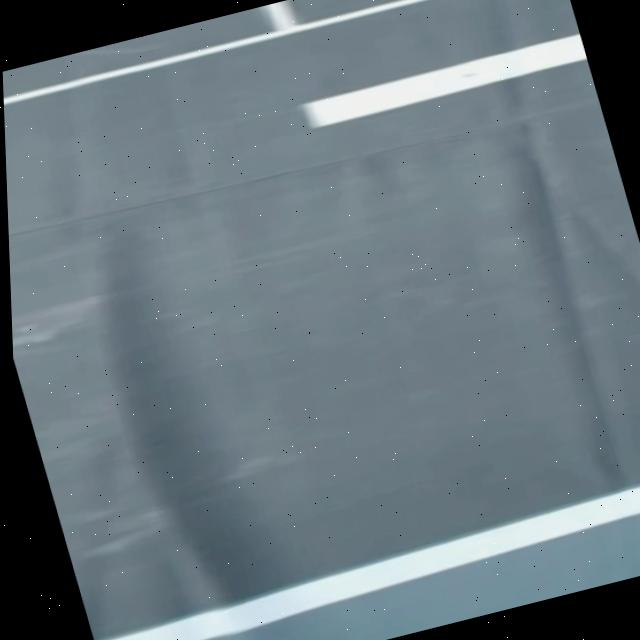center: (303, 33, 587, 126)
left: (106, 485, 640, 640)
